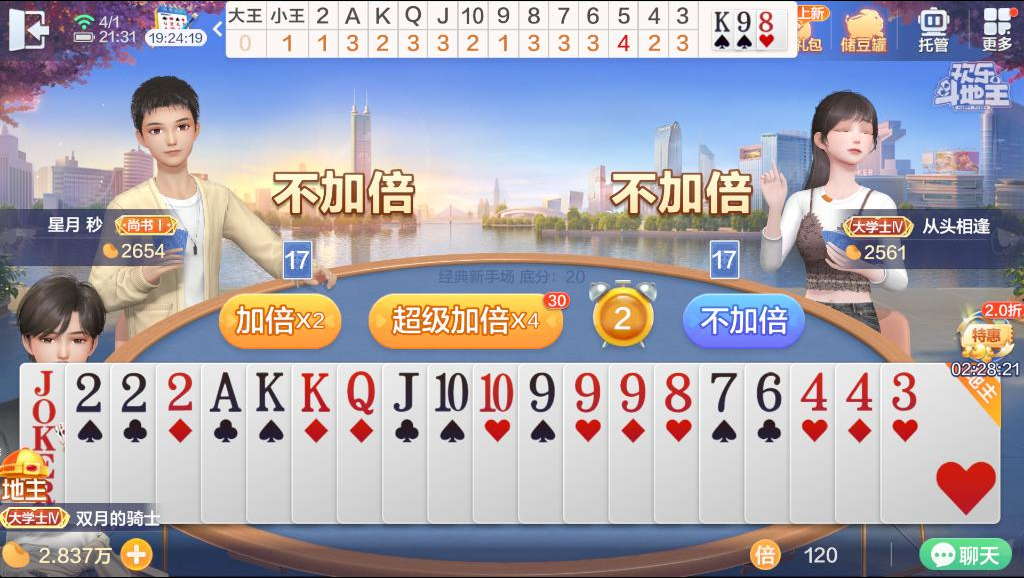A: (207, 370, 244, 415)
J: (387, 367, 423, 413)
JOKER: (29, 367, 60, 455)
K: (251, 369, 287, 414), (297, 367, 332, 412), (713, 9, 731, 34)
Q: (343, 367, 377, 415)
eight: (660, 369, 694, 413), (759, 10, 774, 33)
four: (796, 369, 830, 413), (842, 370, 876, 413)
nine: (523, 368, 557, 414), (570, 369, 603, 413), (616, 369, 648, 413), (735, 10, 751, 33)
seven: (708, 370, 739, 414)
six: (752, 369, 784, 414)
ten: (430, 368, 469, 414), (476, 369, 514, 414)
three: (888, 369, 918, 413)
two: (72, 368, 106, 415), (117, 368, 150, 415), (163, 369, 196, 414)
